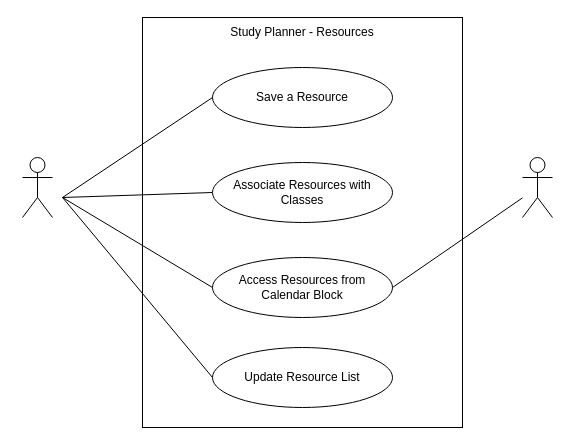
The diagram is 579 pixels wide and 445 high, and some of its shapes have lost their labels. Each missing label, with the centre of its shape:
"Calendar" goes at point (537, 187).
"Student" goes at point (37, 187).
